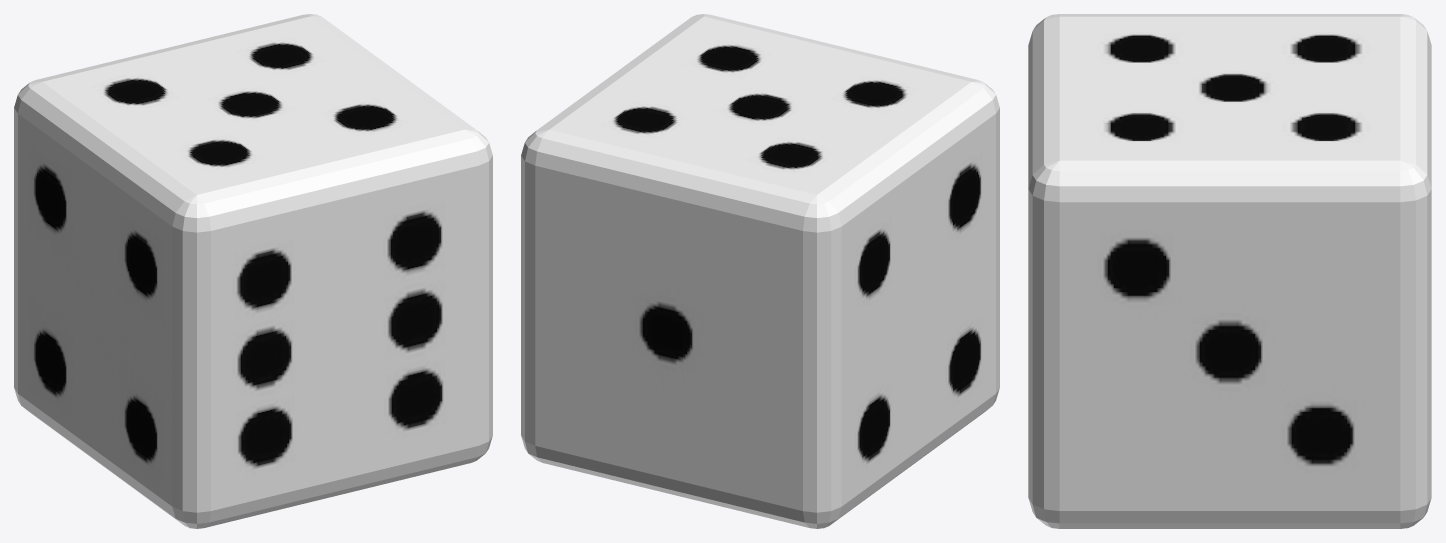
The model's file is low_poly_dice.glb.
The picture shows the model from 3 angles, left to right: view 1: azimuth 30°, elevation 25°; view 2: azimuth 150°, elevation 25°; view 3: azimuth 270°, elevation 25°; orthographic projection. The views are drawn at different scales.
Visible parts, largest first — view 1: Material2 (×2); view 2: Material2 (×3); view 3: Material2 (×3).
Part boxes in pixels (x1,y1,x2,y2): Material2 (×2): (14, 14, 492, 528); Material2 (×3): (521, 14, 999, 528); Material2 (×3): (1028, 14, 1431, 528).
Bounding box in the file's own units: 78.74 × 78.74 × 78.74.
3 materials, 1 textured.
